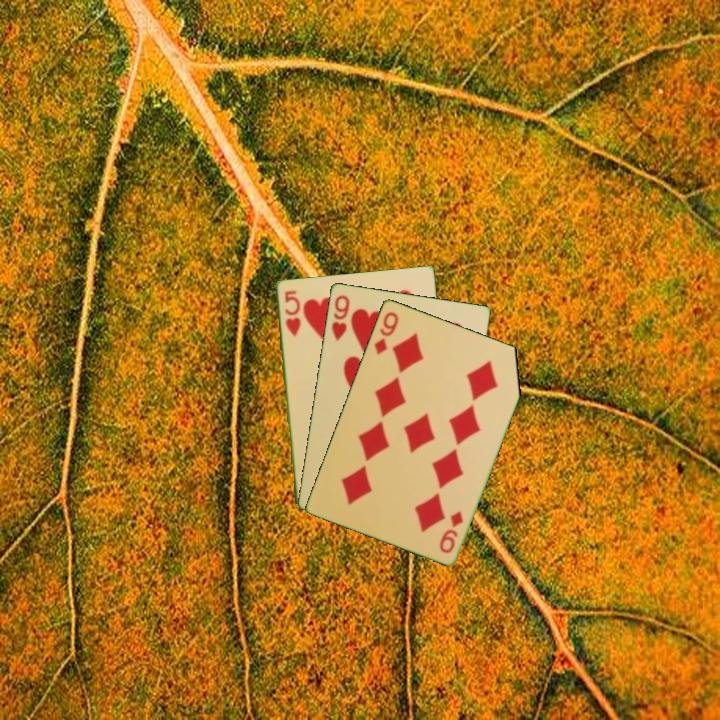5h: (281, 287, 303, 339)
9d: (370, 308, 401, 358), (435, 507, 466, 556)
9h: (328, 291, 352, 343)
